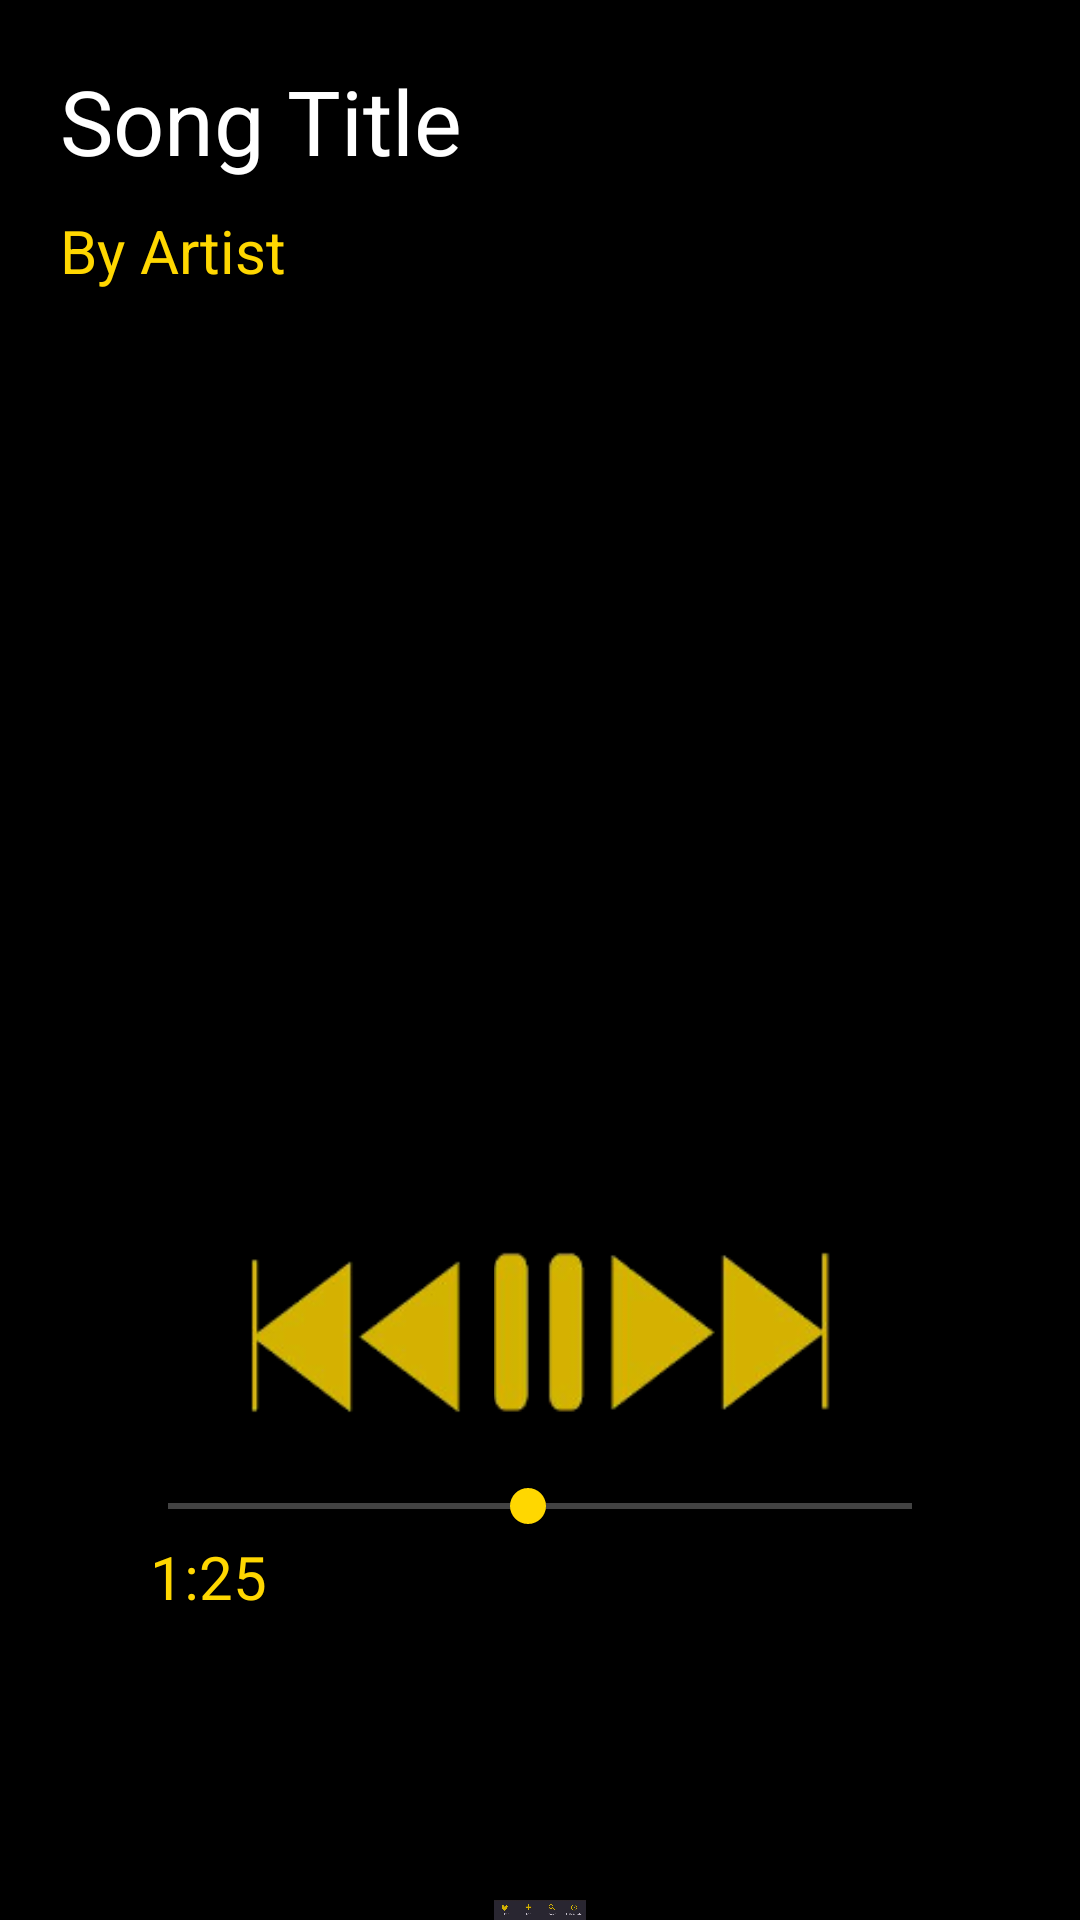

Locate icon controls on the screen. Image size 1080 x 1920, boxes as (x1=x1, y1=y1, x2=x2, y2=y2).
backsng: (x1=251, y1=1259, x2=460, y2=1412)
dbar: (x1=494, y1=1253, x2=584, y2=1412)
forward: (x1=611, y1=1252, x2=830, y2=1410)
